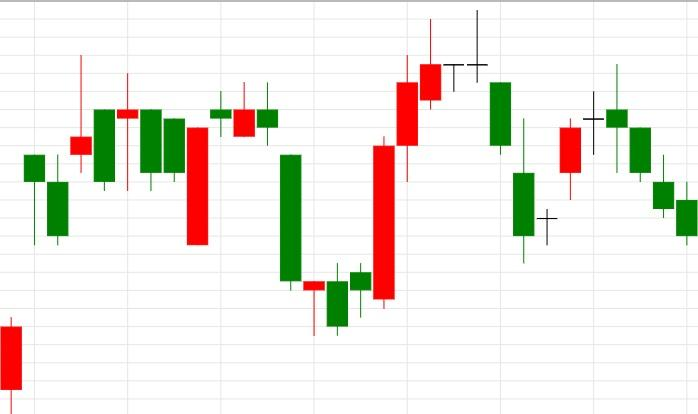three_black_crows_fall: (512, 64, 675, 264)
